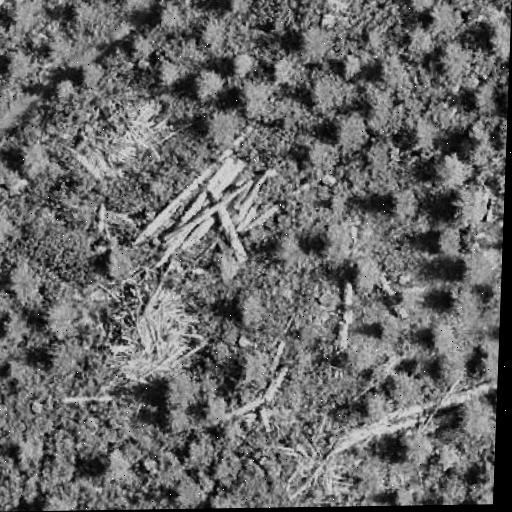tree-top: (426, 2, 480, 64), (428, 34, 482, 85), (303, 65, 353, 112), (309, 219, 356, 269), (157, 368, 204, 416), (448, 178, 494, 226), (344, 323, 390, 370), (452, 393, 497, 441), (201, 103, 249, 148), (431, 149, 476, 194), (231, 342, 275, 388), (235, 73, 279, 119), (232, 285, 275, 332), (295, 20, 339, 65), (330, 105, 372, 152), (388, 426, 435, 468), (42, 338, 87, 381), (99, 238, 141, 284), (419, 318, 467, 358), (0, 39, 43, 83), (39, 296, 81, 341), (424, 0, 467, 42), (170, 468, 212, 509), (347, 251, 386, 295), (188, 62, 229, 103), (451, 281, 492, 322), (10, 426, 50, 468), (100, 444, 142, 483), (4, 0, 49, 36), (10, 140, 48, 181), (433, 467, 473, 505), (387, 367, 425, 406), (183, 431, 220, 470), (357, 93, 394, 131), (70, 0, 118, 29), (270, 50, 307, 87), (473, 334, 499, 386), (189, 478, 232, 509), (385, 186, 422, 222), (432, 222, 468, 259), (158, 0, 196, 35), (429, 354, 470, 385), (0, 307, 33, 345), (398, 118, 432, 154), (485, 13, 511, 60), (227, 45, 261, 78), (369, 55, 404, 85), (267, 229, 298, 262), (35, 489, 81, 511), (81, 55, 110, 87), (207, 484, 243, 509), (356, 395, 388, 421), (116, 0, 162, 12), (0, 149, 15, 185), (220, 0, 248, 19), (0, 219, 8, 284), (403, 0, 441, 12)
